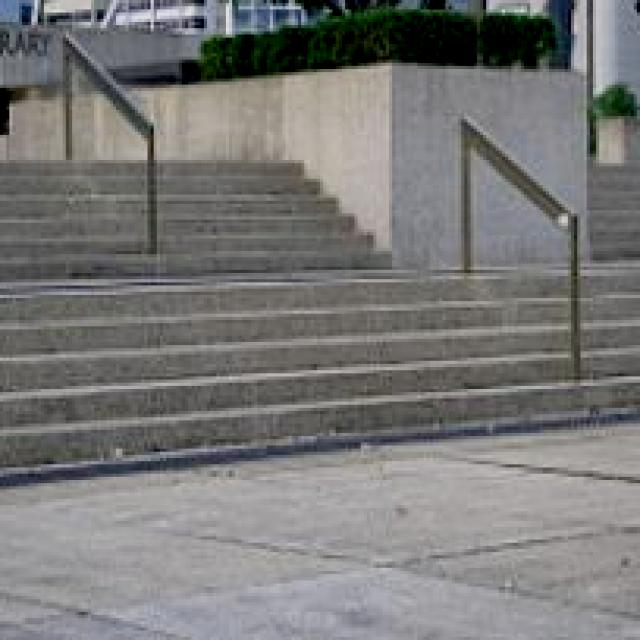upstair: (4, 268, 418, 465)
